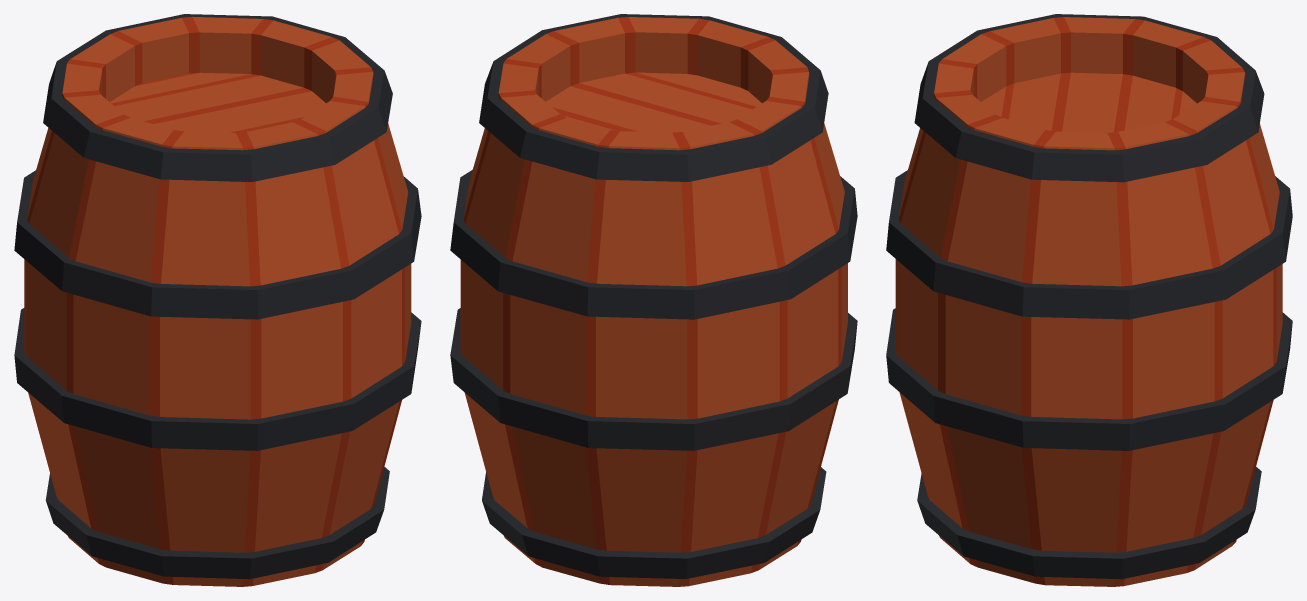
Rendered from Barrel.fbx.
3 views of the same model, side by side, from view 1: azimuth 30°, elevation 25°; view 2: azimuth 150°, elevation 25°; view 3: azimuth 270°, elevation 25° (orthographic).
Parts seen in each view (by area): view 1: Barrel; view 2: Barrel; view 3: Barrel.
Boxes of the visible parts, box(x1,y1,x2,y2) form: Barrel: box(14, 14, 421, 586); Barrel: box(450, 14, 857, 586); Barrel: box(886, 14, 1292, 586).
Size of the model in its own units: 21.78 by 26.05 by 21.78.
